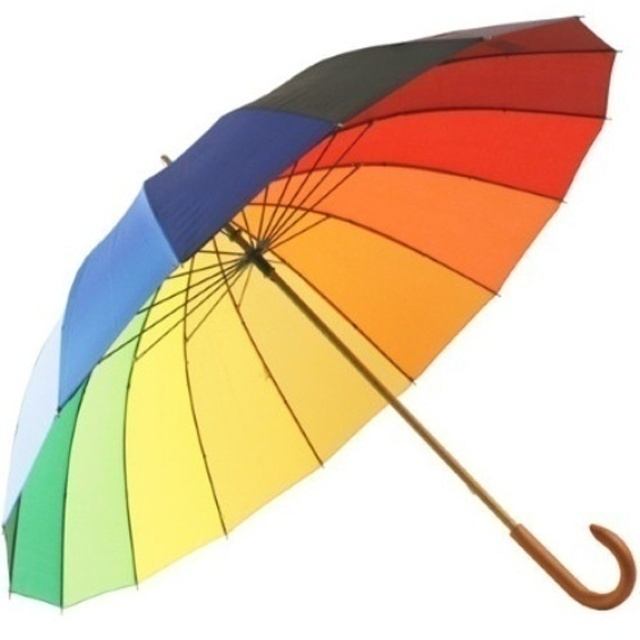umbrella: (1, 7, 640, 617)
